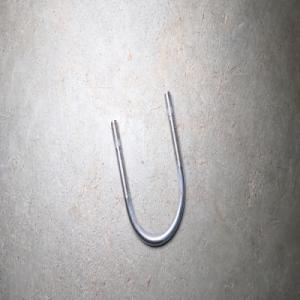ClampPart: (110, 90, 186, 248)
